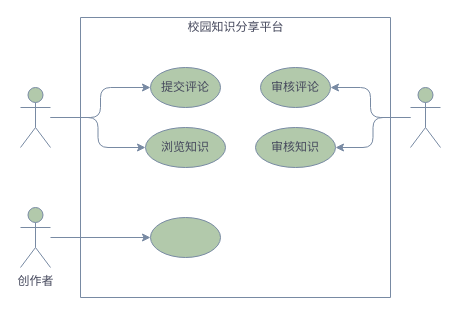
Some shapes in this 460 by 315 pixel diagram are drawn without their labels. Each missing label, with the centre of its shape:
创作知识: (x=185, y=237)
浏览者: (x=35, y=117)
管理员: (x=425, y=117)
